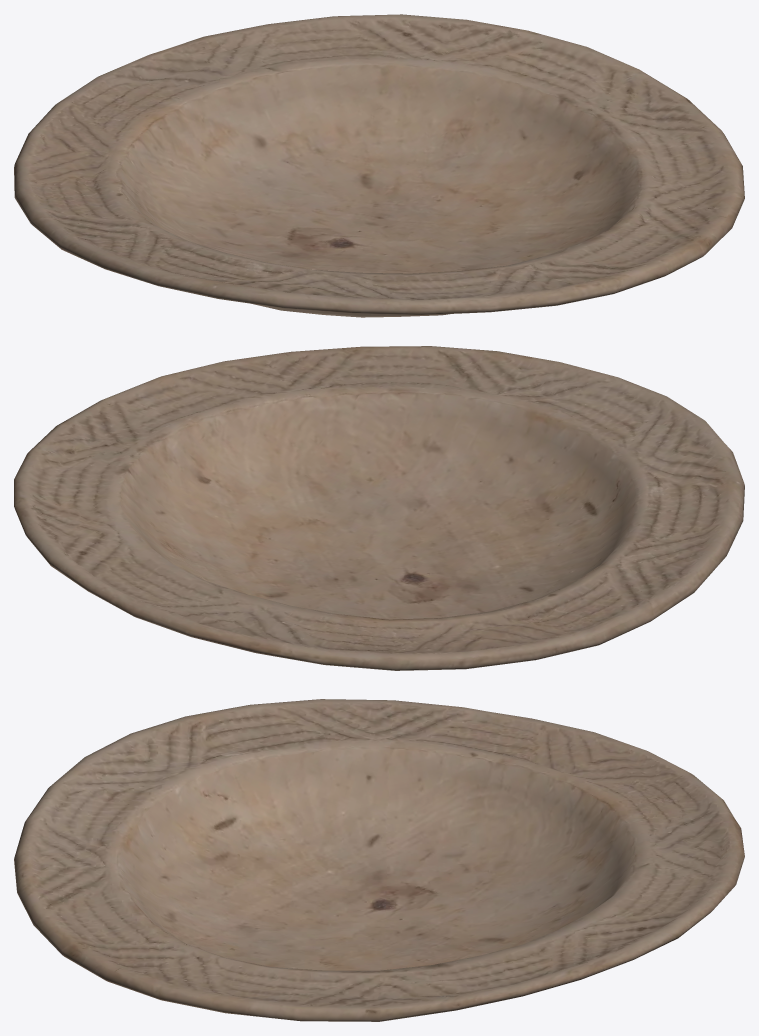
File: carved_wooden_plate_4k-transformed.glb
3 renders of one model, top to bottom at view 1: azimuth 30°, elevation 25°; view 2: azimuth 150°, elevation 25°; view 3: azimuth 270°, elevation 25°, orthographic. The views are drawn at different scales.
Parts seen in each view (by area): view 1: carved_wooden_plate; view 2: carved_wooden_plate; view 3: carved_wooden_plate.
Boxes of the visible parts, box(x1,y1,x2,y2) form: carved_wooden_plate: box(14, 14, 744, 317); carved_wooden_plate: box(14, 346, 744, 670); carved_wooden_plate: box(14, 699, 744, 1021).
Size of the model in its own units: 0.2718 by 0.0381 by 0.2688.
Materials: 1 (1 with a texture image).
